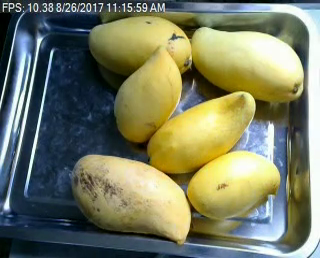Mango: (71, 153, 191, 245), (146, 90, 256, 173), (192, 25, 304, 101), (112, 46, 181, 142), (88, 15, 192, 78), (187, 150, 280, 220)
